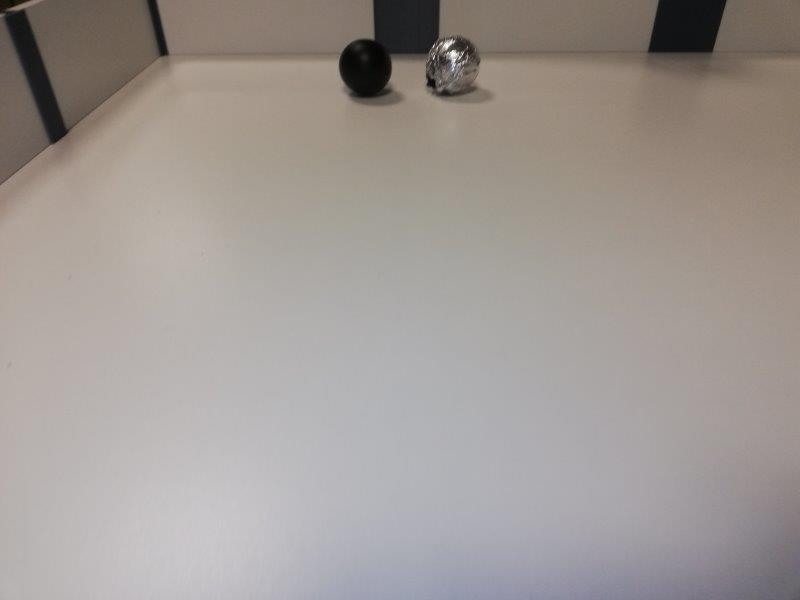bianca: (428, 34, 480, 96)
nera: (338, 37, 395, 93)
